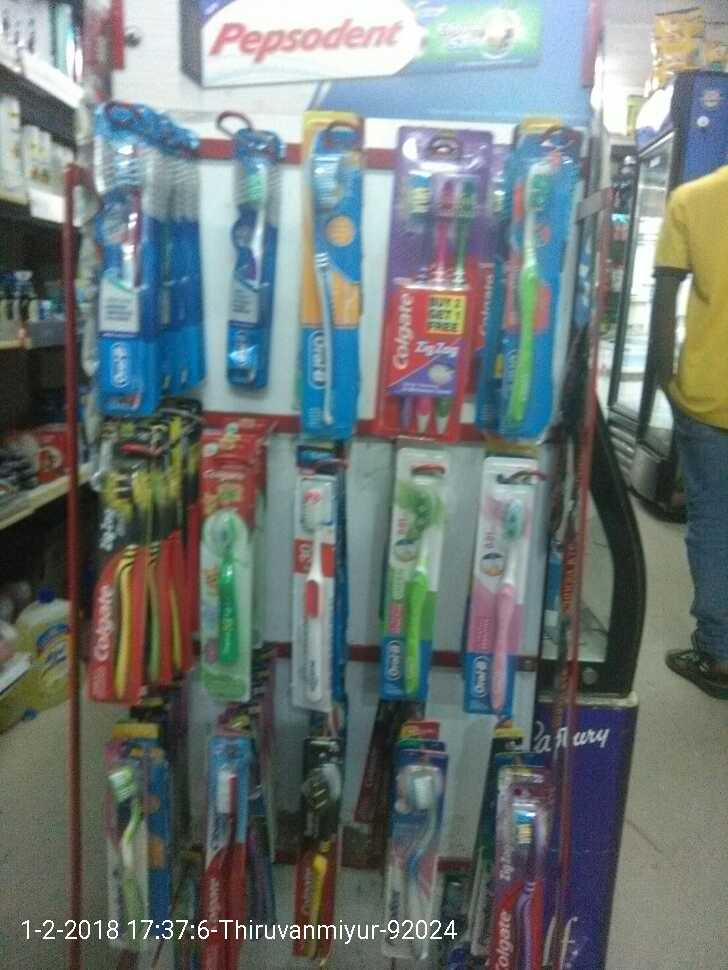oralb: (210, 133, 275, 394), (97, 129, 157, 404), (299, 160, 356, 426)
